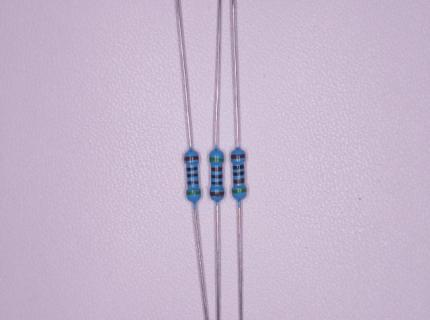Black band: (186, 167, 198, 172), (186, 173, 198, 178), (211, 174, 223, 179), (232, 165, 244, 170), (233, 171, 244, 176), (211, 181, 223, 185)
Brown band: (184, 156, 198, 162), (209, 191, 224, 196), (231, 154, 246, 159), (233, 178, 245, 184), (211, 167, 223, 172), (187, 181, 199, 185)
Green band: (186, 190, 201, 196), (232, 188, 247, 194), (209, 157, 224, 162)
